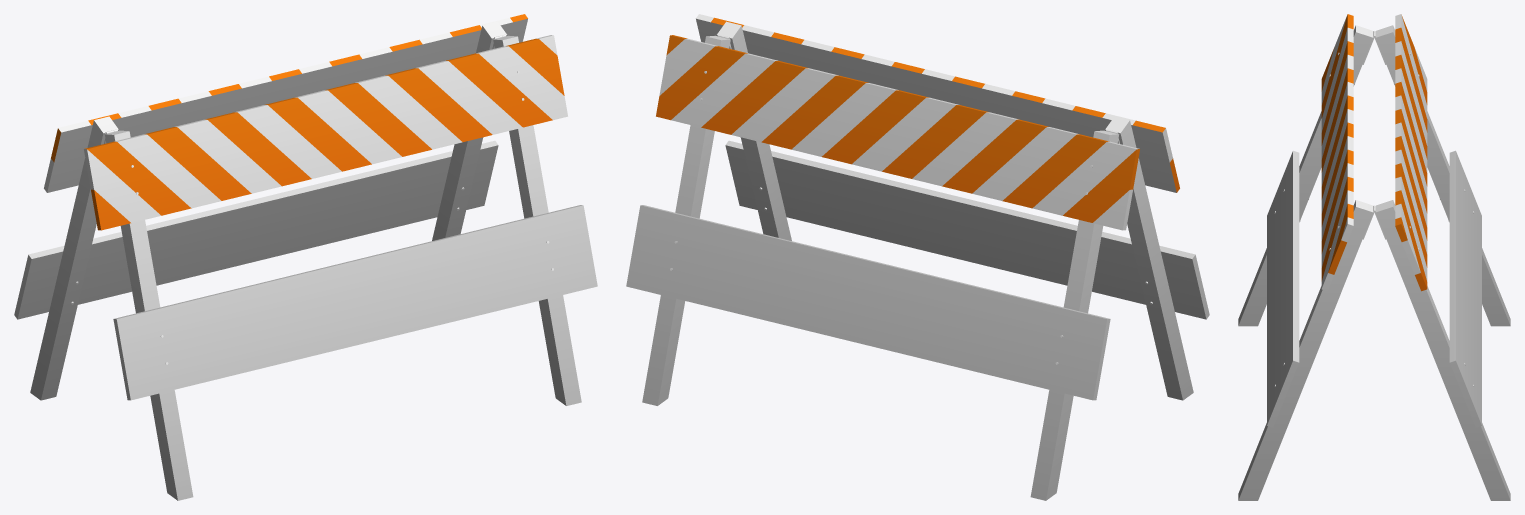
The model's file is type_i_barricade_01_large.glb.
3 views of the same model, side by side, from view 1: azimuth 30°, elevation 25°; view 2: azimuth 150°, elevation 25°; view 3: azimuth 270°, elevation 25° (orthographic). The views are drawn at different scales.
Parts seen in each view (by area): view 1: type_i_barricade_01_large; view 2: type_i_barricade_01_large; view 3: type_i_barricade_01_large.
Part boxes in pixels (bbox=[...]): type_i_barricade_01_large: bbox=[14, 14, 597, 500]; type_i_barricade_01_large: bbox=[626, 14, 1209, 500]; type_i_barricade_01_large: bbox=[1238, 14, 1510, 500].
Size of the model in its own units: 1.51 by 0.9894 by 0.8304.
Materials: 1 (1 with a texture image).
